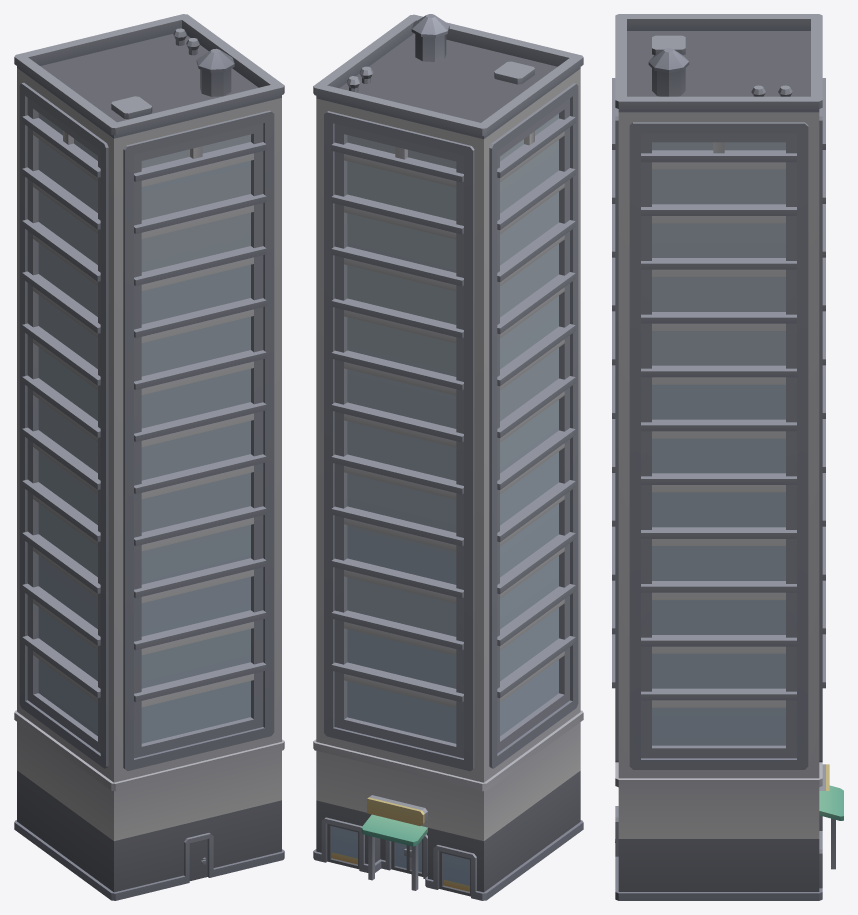
Rendered from building-skyscraper-d.glb.
The picture shows the model from 3 angles, left to right: view 1: azimuth 30°, elevation 25°; view 2: azimuth 150°, elevation 25°; view 3: azimuth 270°, elevation 25°; orthographic projection. The views are drawn at different scales.
Visible parts, largest first — view 1: geometry_0; view 2: geometry_0; view 3: geometry_0.
Boxes of the visible parts, x1,y1,x2,y2 form: geometry_0: [14, 14, 284, 900]; geometry_0: [313, 14, 583, 900]; geometry_0: [612, 14, 843, 900].
Size of the model in its own units: 0.234 by 1 by 0.2537.
